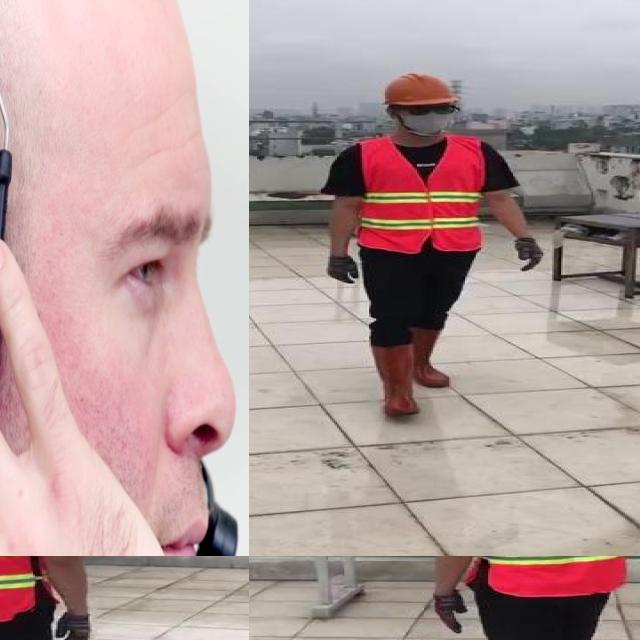Ear-protection: (0, 0, 224, 556)
No_Glasses: (20, 138, 228, 338)
boots: (367, 345, 424, 417), (410, 328, 454, 388)
face_mask: (402, 101, 455, 134)
glasses: (397, 101, 458, 117)
hand_glove: (52, 611, 100, 640), (434, 592, 466, 635), (513, 236, 545, 272), (325, 256, 360, 282)
head_helmet: (380, 70, 463, 108)
person: (310, 62, 558, 426), (417, 556, 640, 640), (0, 556, 103, 640)
vest: (358, 132, 488, 252), (475, 556, 640, 599)
